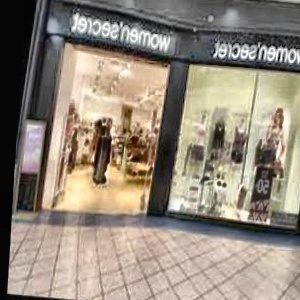women_secret: (145, 8, 300, 61), (155, 0, 201, 26)
